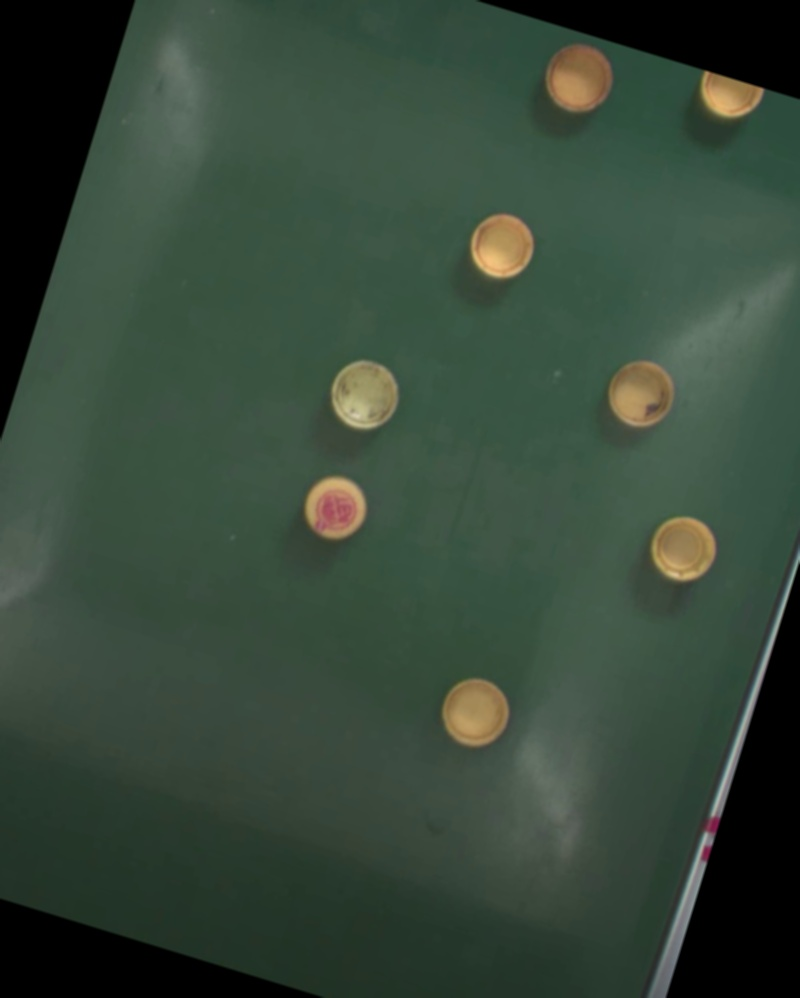Others: (433, 671, 518, 756), (460, 204, 544, 288), (323, 352, 406, 437), (537, 37, 620, 122), (641, 508, 725, 591), (600, 354, 683, 438), (295, 468, 376, 549), (692, 70, 767, 127)
